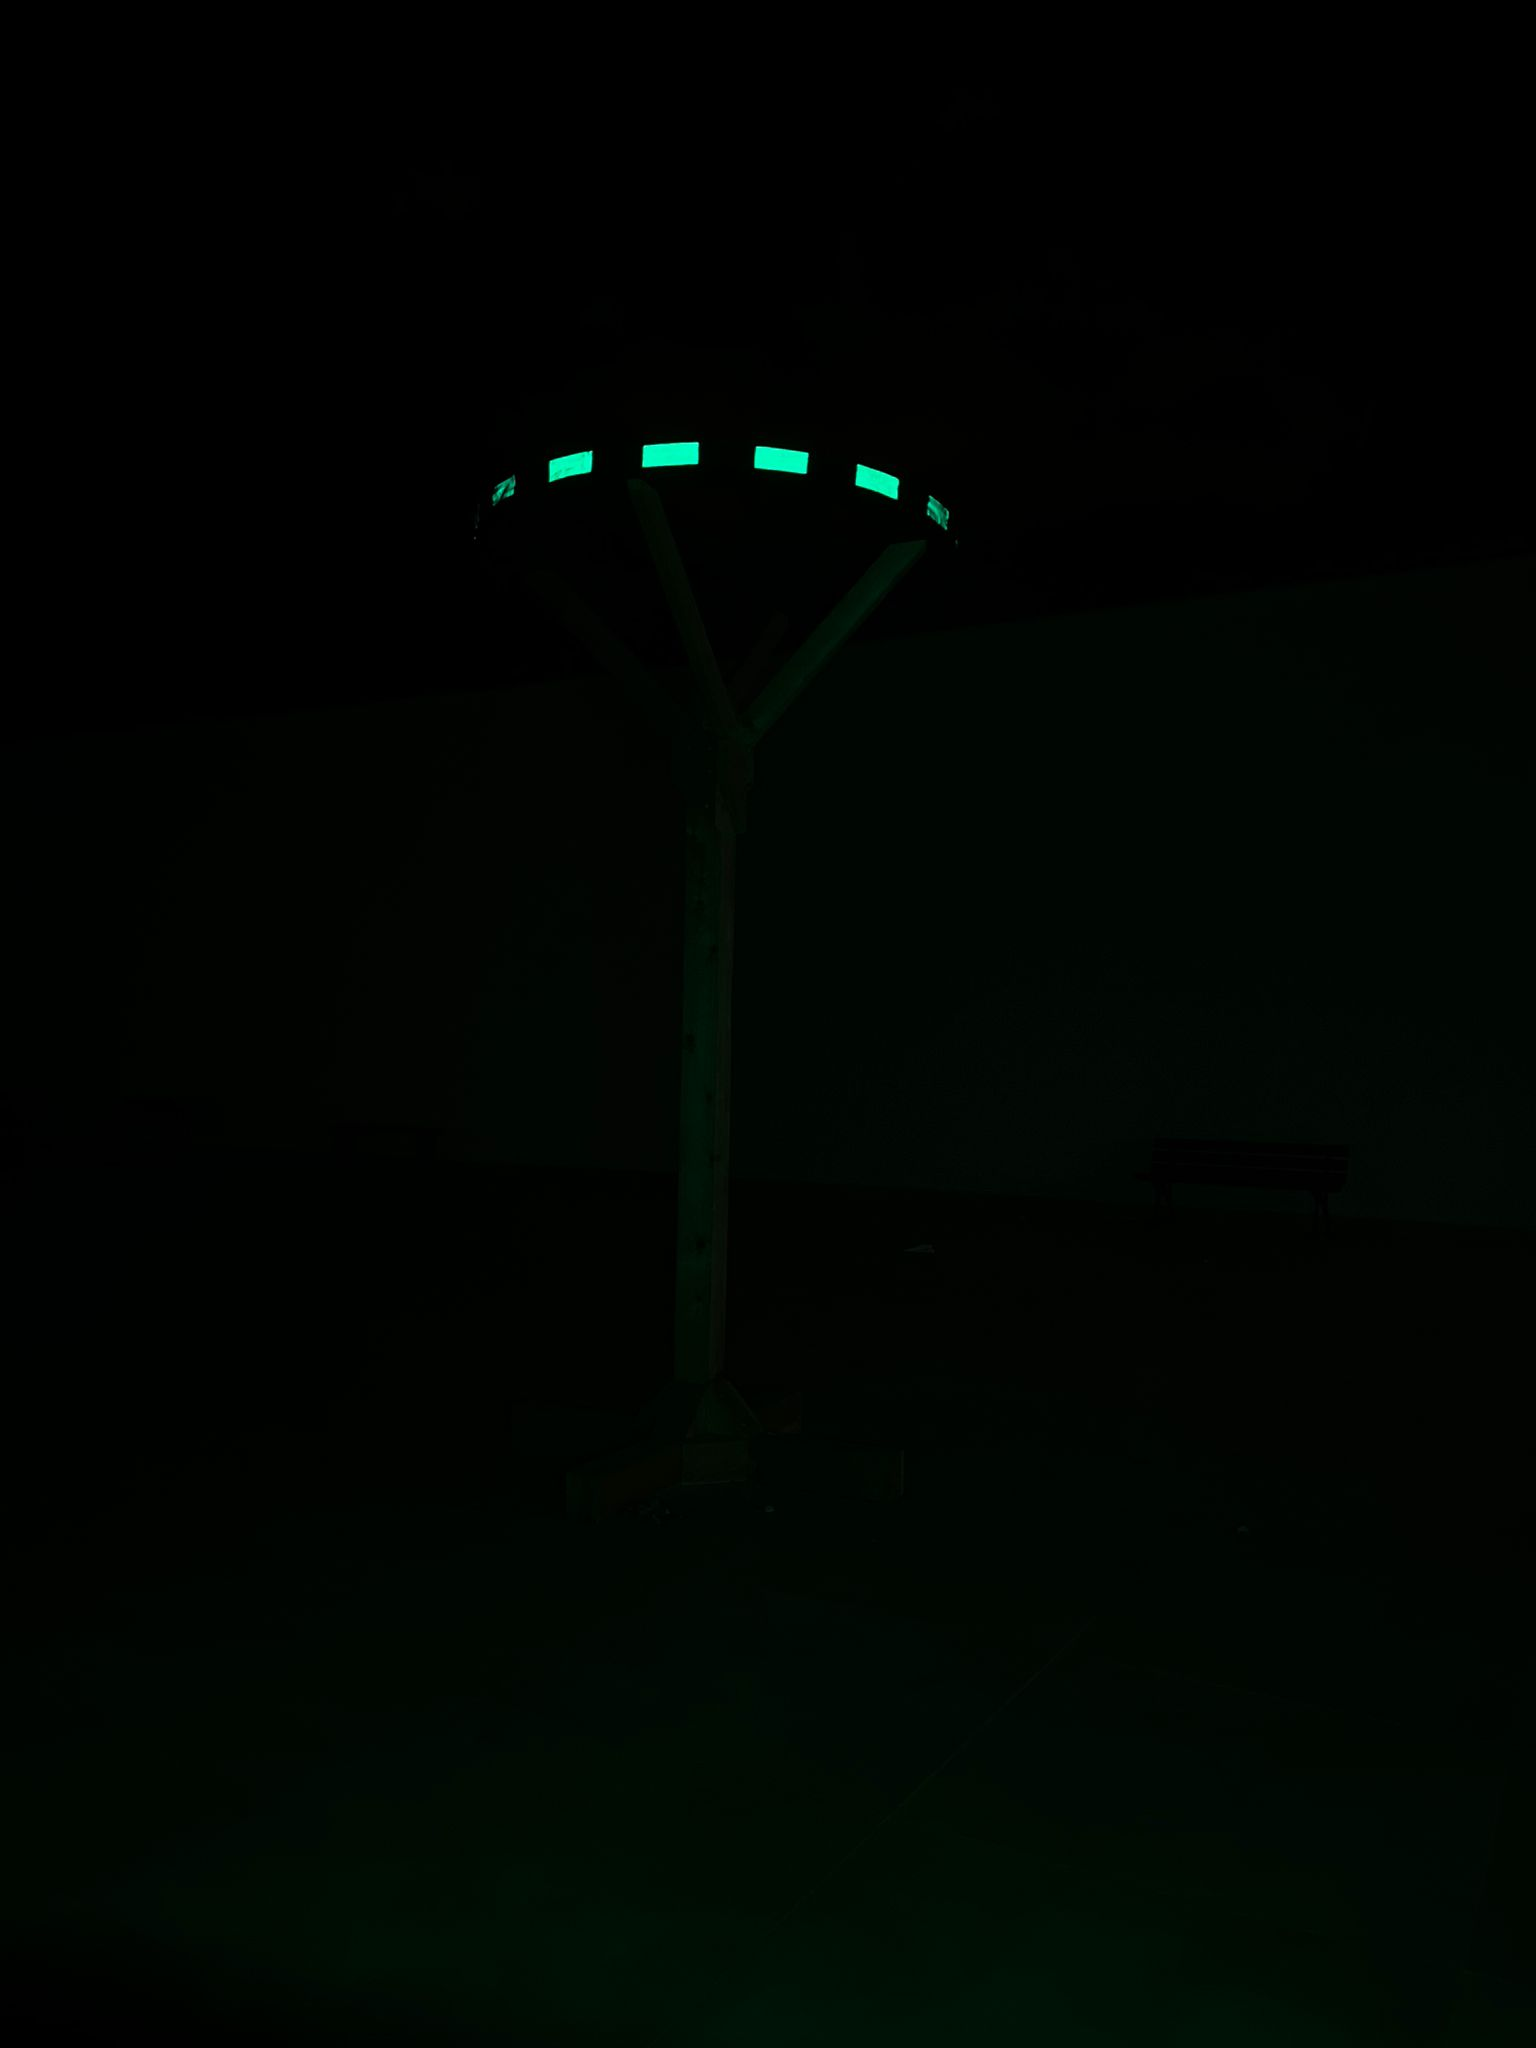hoop: (478, 432, 957, 537)
